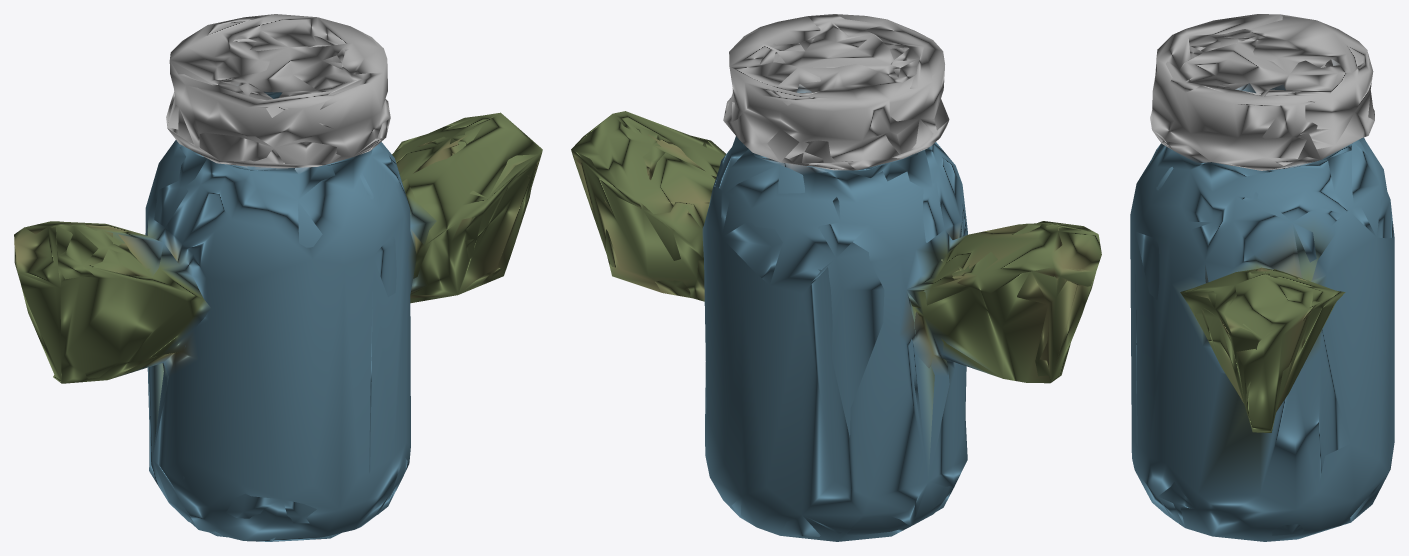
The model's file is gen3d-firefly-jar-lod0.glb.
3 views of the same model, side by side, from view 1: azimuth 30°, elevation 25°; view 2: azimuth 150°, elevation 25°; view 3: azimuth 270°, elevation 25° (orthographic).
Parts seen in each view (by area): view 1: part_0; view 2: part_0; view 3: part_0.
Boxes of the visible parts, <box> form: part_0: <box>14,14,542,541</box>; part_0: <box>571,14,1101,541</box>; part_0: <box>1130,14,1394,541</box>.
Bounding box in the file's own units: 1.23 × 0.9995 × 0.5447.
